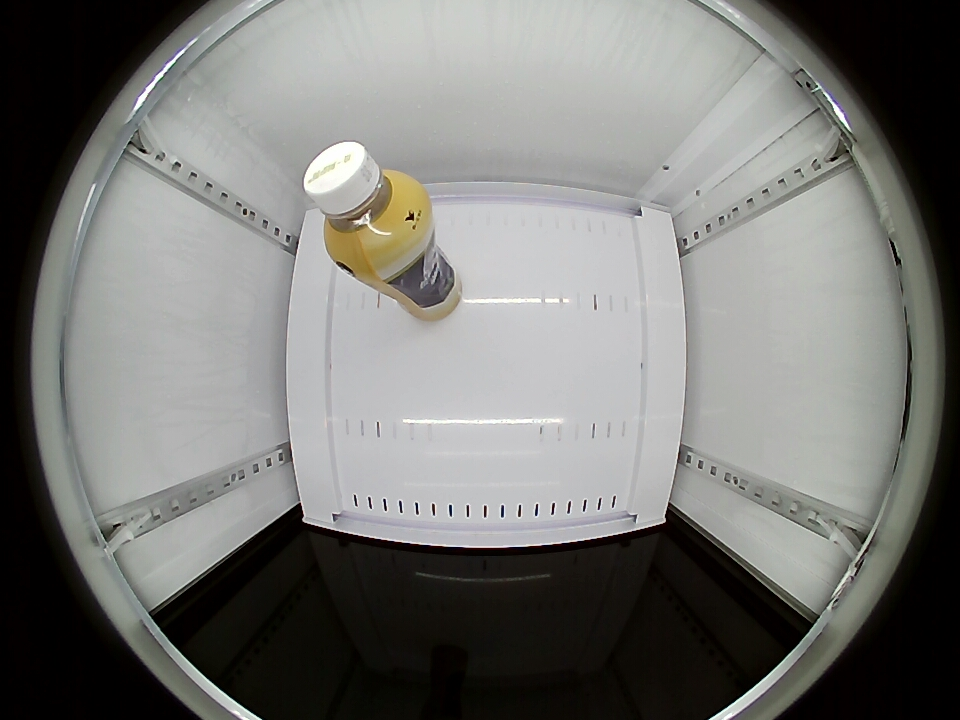asamu: (303, 140, 428, 270)
